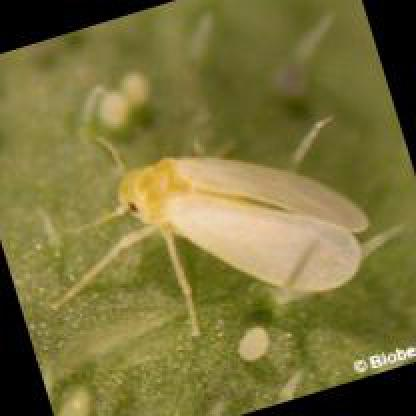whitefly: (117, 154, 372, 293)
